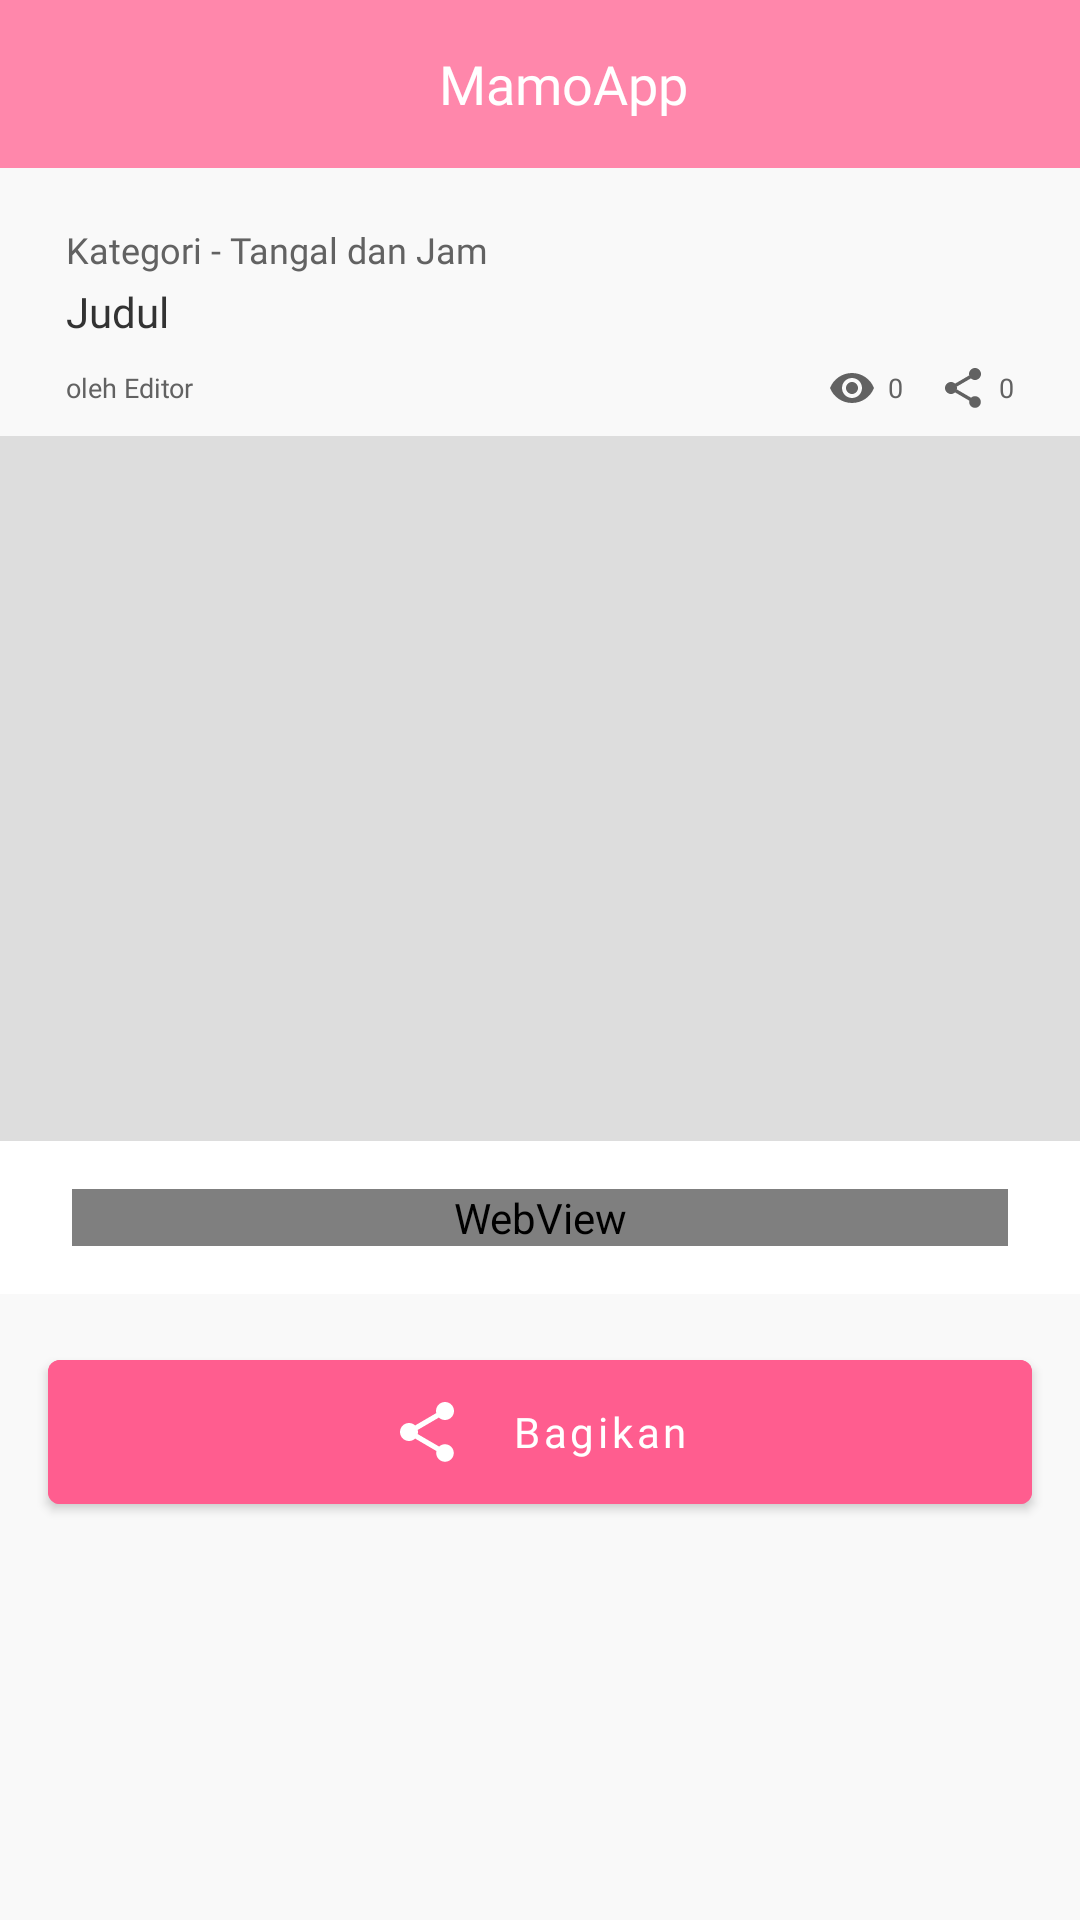

Icons on this 1080px x 1920px Android screen, each with the point to tap as point (x, y):
share: point (963, 388)
view: point (852, 388)
